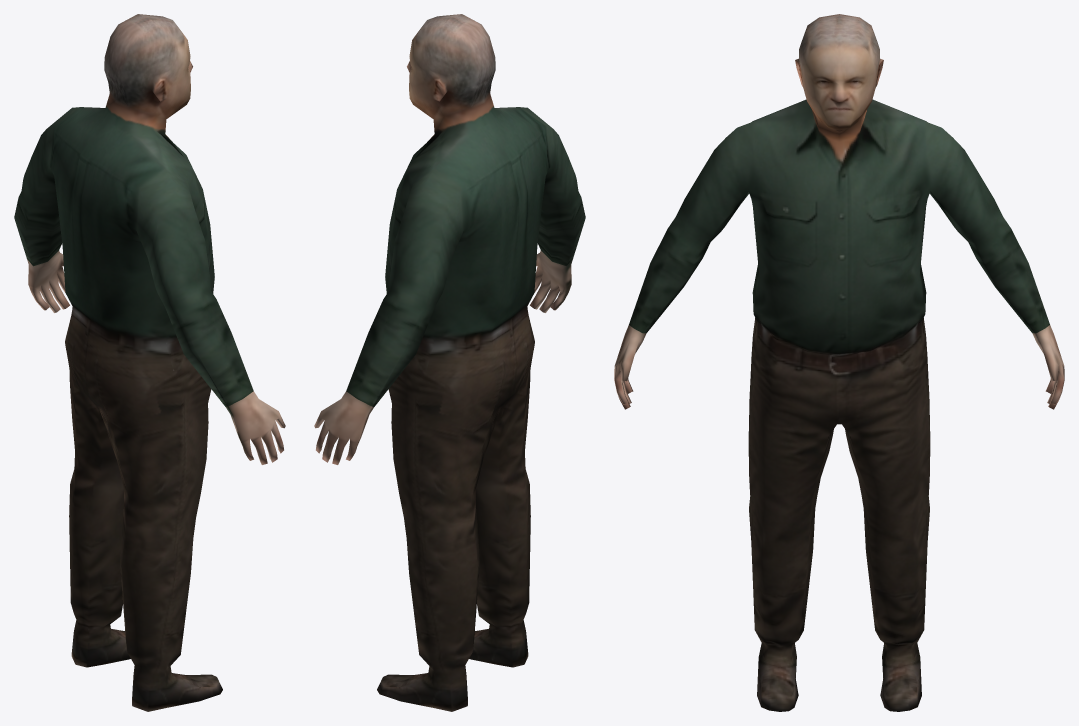
Rendered from Character_Male_50.fbx.
3 renders of one model, left to right at view 1: azimuth 30°, elevation 25°; view 2: azimuth 150°, elevation 25°; view 3: azimuth 270°, elevation 25°, orthographic. The views are drawn at different scales.
Parts seen in each view (by area): view 1: Character_Male_50; view 2: Character_Male_50; view 3: Character_Male_50.
Part boxes in pixels (left/top/right/bottom): Character_Male_50: left=14, top=14, right=285, bottom=711; Character_Male_50: left=314, top=14, right=585, bottom=711; Character_Male_50: left=614, top=14, right=1064, bottom=711.
Bounding box in the file's own units: 0.346 × 1.7 × 1.03.
